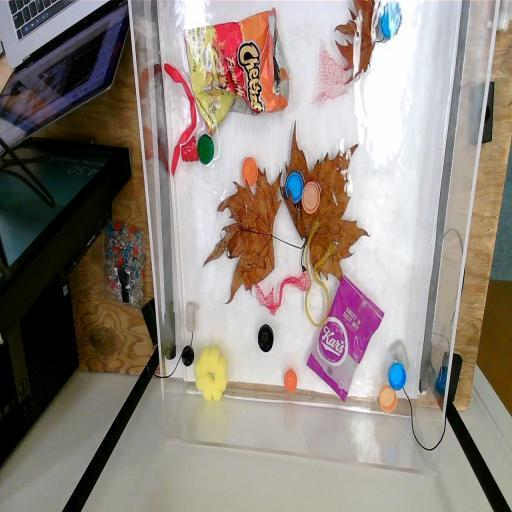Bottle Cap: (378, 0, 405, 43), (283, 166, 304, 210), (196, 131, 218, 171), (300, 176, 322, 215), (240, 154, 260, 192), (378, 382, 398, 419), (388, 359, 408, 394), (257, 322, 275, 358), (282, 367, 300, 400), (182, 344, 196, 367)
Cone Cap: (178, 134, 200, 170)
Leaf: (282, 126, 372, 286), (202, 162, 280, 298), (333, 0, 378, 89)
Netting: (310, 37, 352, 115), (254, 268, 312, 319)
Plastic Bag: (182, 7, 294, 136), (304, 272, 384, 405)
Plastic Strand: (161, 57, 198, 182), (303, 219, 337, 332)
Sponge: (192, 342, 230, 407)
